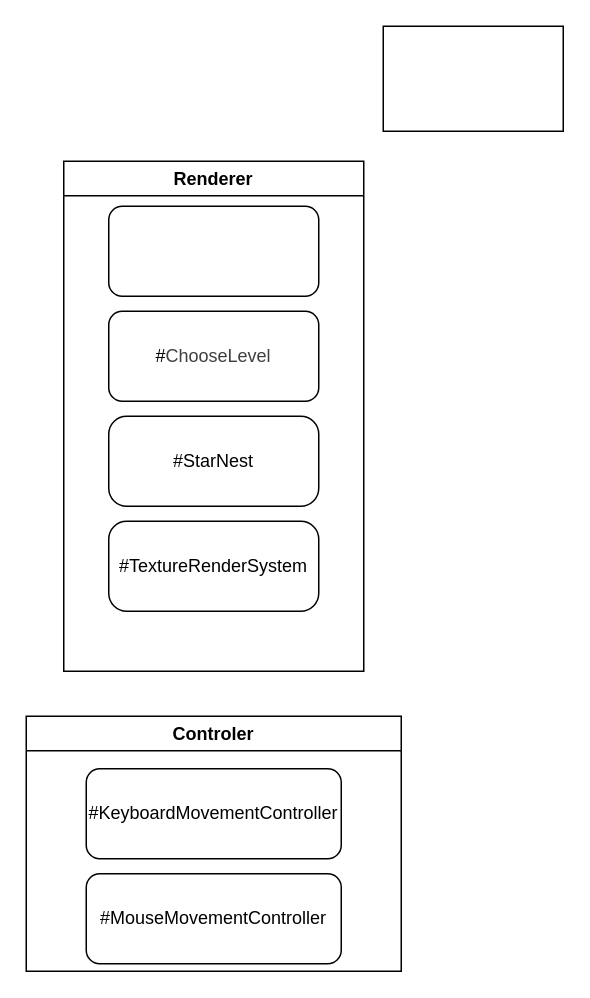
The diagram is 590 pixels wide and 998 high, and some of its shapes have lost their labels. Here are the shapes that lost their labels. From the top down, the centre of each, then its label:
At point (472, 78): "#Application".
At point (213, 250): "#ExitRenderSystem".
